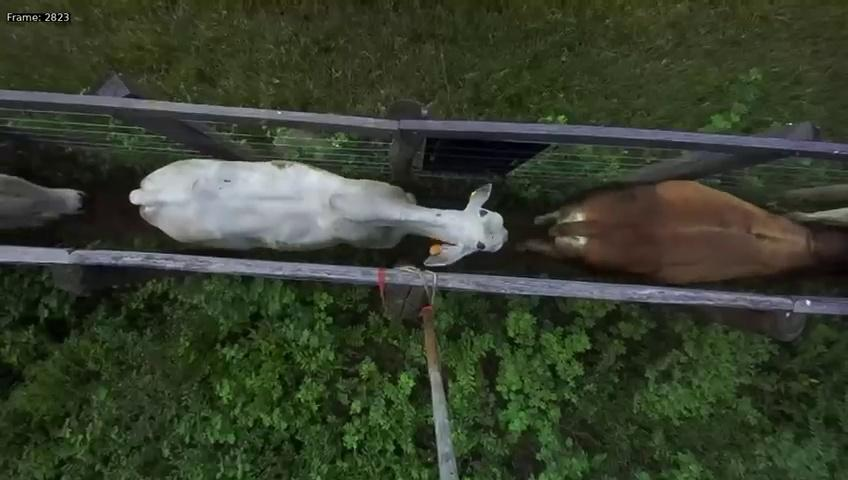cattle: (124, 139, 508, 268)
